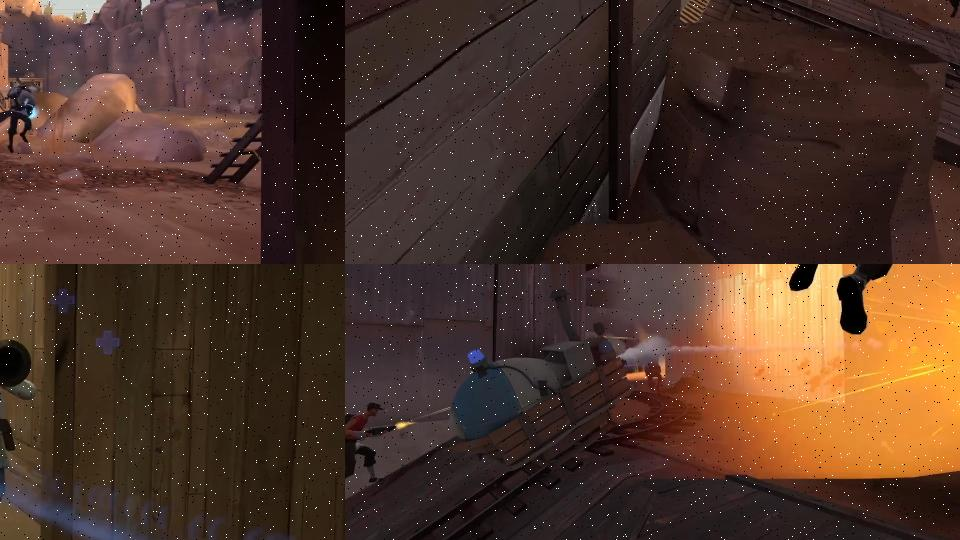Enemy: (759, 264, 937, 337), (0, 339, 36, 539), (345, 400, 400, 504), (0, 84, 36, 153)
